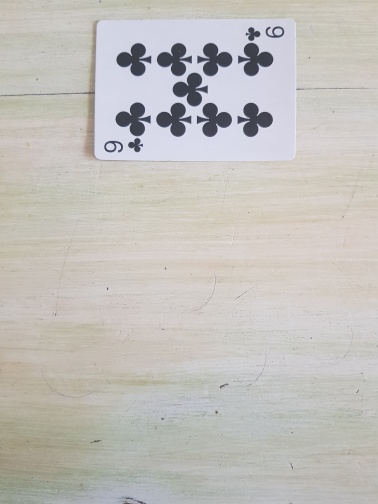nine: (93, 17, 299, 162)
